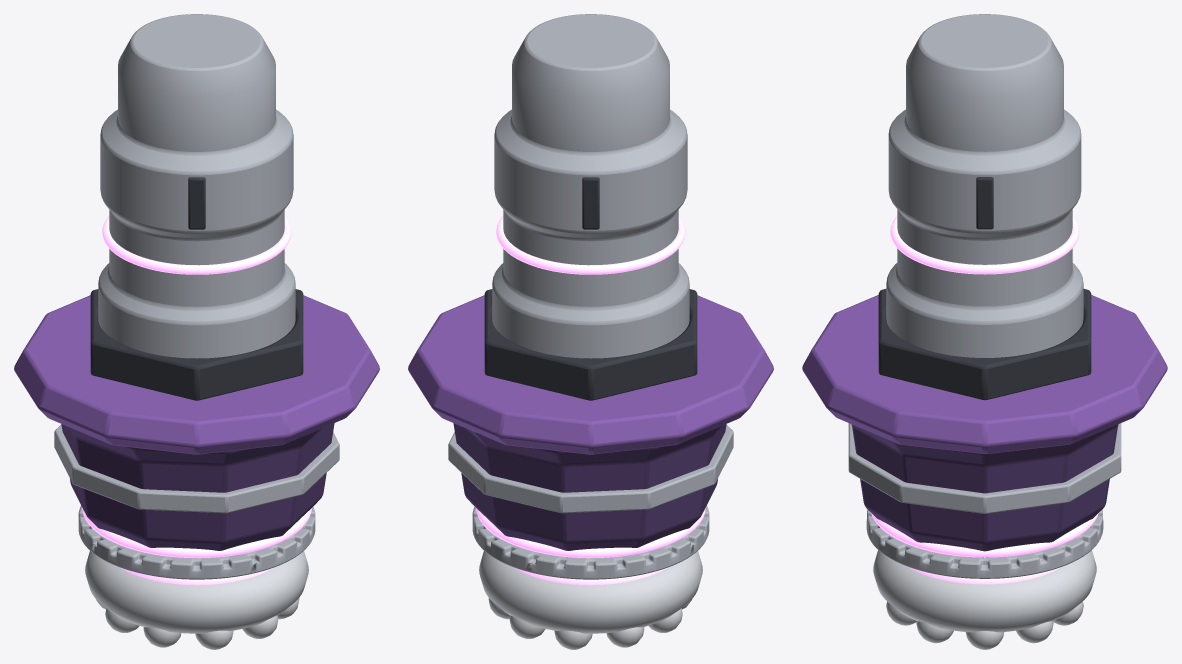
File: lager.glb
3 renders of one model, left to right at view 1: azimuth 30°, elevation 25°; view 2: azimuth 150°, elevation 25°; view 3: azimuth 270°, elevation 25°, orthographic.
Visible parts, largest first — view 1: Schaft.003, Flansch.003, Gehaeuse.003, Lagerring, Kragen.003, Metallband.003, Fussring.003, Schaftleuchte.003, Fussleuchte.004, Rippe.019, Kaefig, Kugel.021 (+1 smaller); view 2: Schaft.003, Flansch.003, Gehaeuse.003, Lagerring, Kragen.003, Metallband.003, Fussring.003, Schaftleuchte.003, Fussleuchte.004, Rippe.018, Kaefig, Kugel.017 (+1 smaller); view 3: Schaft.003, Flansch.003, Gehaeuse.003, Lagerring, Kragen.003, Metallband.003, Fussring.003, Schaftleuchte.003, Fussleuchte.004, Rippe.017, Kaefig, Kugel.014.
Boxes of the visible parts, <box> form: Schaft.003: <box>98,14,295,358</box>; Flansch.003: <box>14,295,379,454</box>; Gehaeuse.003: <box>61,423,334,550</box>; Lagerring: <box>85,551,308,633</box>; Kragen.003: <box>90,289,303,400</box>; Metallband.003: <box>54,425,339,513</box>; Fussring.003: <box>78,505,315,579</box>; Schaftleuchte.003: <box>102,216,291,274</box>; Fussleuchte.004: <box>82,507,311,558</box>; Rippe.019: <box>188,177,205,229</box>; Kaefig: <box>120,567,273,585</box>; Kugel.021: <box>195,630,233,649</box>; Schaft.003: <box>492,14,689,358</box>; Flansch.003: <box>408,295,773,454</box>; Gehaeuse.003: <box>453,423,726,550</box>; Lagerring: <box>479,551,702,633</box>; Kragen.003: <box>484,289,697,400</box>; Metallband.003: <box>448,425,733,513</box>; Fussring.003: <box>472,505,709,579</box>; Schaftleuchte.003: <box>496,216,685,274</box>; Fussleuchte.004: <box>476,507,705,558</box>; Rippe.018: <box>582,177,599,229</box>; Kaefig: <box>514,567,667,585</box>; Kugel.017: <box>554,630,592,649</box>; Schaft.003: <box>886,14,1083,357</box>; Flansch.003: <box>802,295,1167,453</box>; Gehaeuse.003: <box>851,424,1118,557</box>; Lagerring: <box>873,550,1096,632</box>; Kragen.003: <box>878,289,1091,399</box>; Metallband.003: <box>848,423,1121,513</box>; Fussring.003: <box>866,509,1103,578</box>; Schaftleuchte.003: <box>890,216,1079,274</box>; Fussleuchte.004: <box>871,513,1098,557</box>; Rippe.017: <box>976,177,993,229</box>; Kaefig: <box>908,567,1061,584</box>; Kugel.014: <box>965,631,1004,649</box>.
Size of the model in its own units: 0.1668 by 0.296 by 0.1668.
